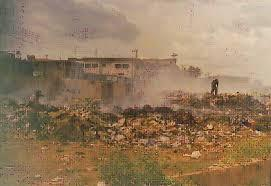smoke: (134, 64, 211, 103)
